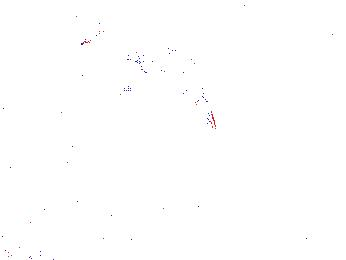glassfish: (169, 64, 220, 141)
red belly glassfish: (79, 33, 100, 47), (286, 111, 295, 132)
redtail glassfish: (122, 50, 165, 76)
siberian prawn: (33, 211, 113, 260)
